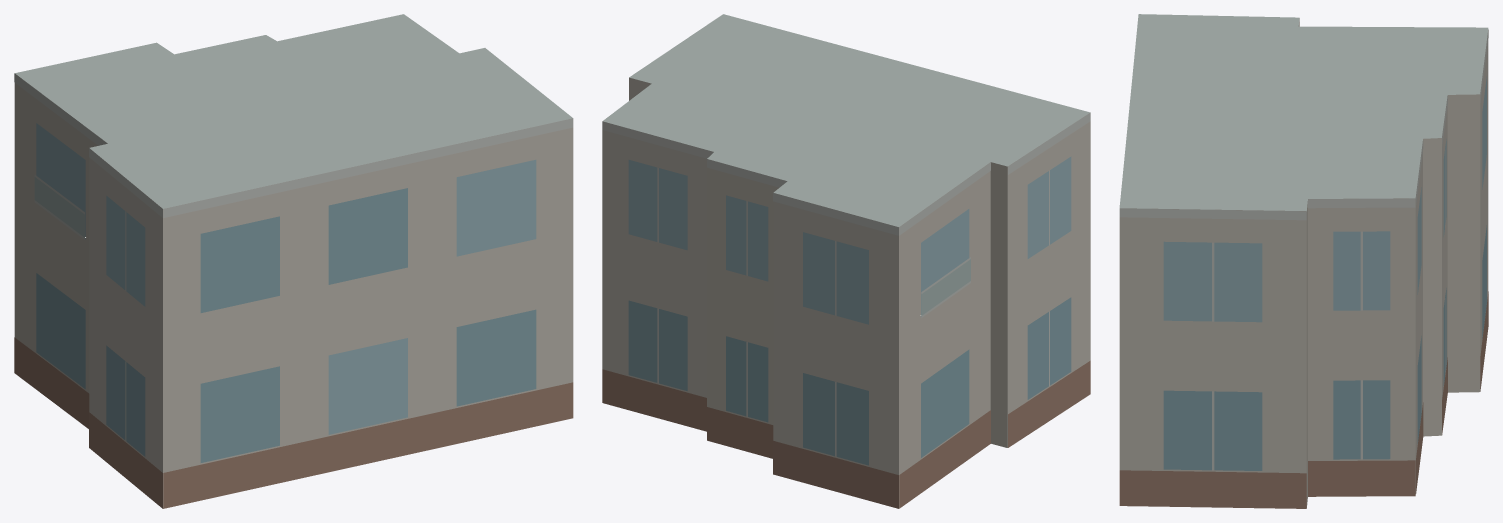
Rendered from survey-upis-32505478.glb.
The picture shows the model from 3 angles, left to right: view 1: azimuth 30°, elevation 25°; view 2: azimuth 150°, elevation 25°; view 3: azimuth 270°, elevation 25°; orthographic projection. The views are drawn at different scales.
Parts seen in each view (by area): view 1: survey-upis-32505478.tmp; view 2: survey-upis-32505478.tmp; view 3: survey-upis-32505478.tmp.
Part boxes in pixels (box(x1,y1,x2,y2)): survey-upis-32505478.tmp: box(14, 14, 573, 508); survey-upis-32505478.tmp: box(602, 14, 1090, 508); survey-upis-32505478.tmp: box(1119, 14, 1488, 508).
Size of the model in its own units: 11.23 by 7.9 by 8.88.
